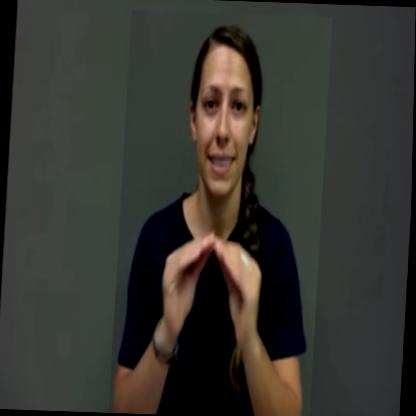Fix: (111, 10, 333, 416)
